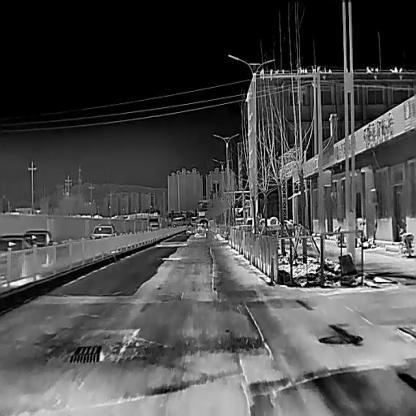car: (0, 236, 37, 278), (23, 230, 52, 266), (89, 223, 116, 244), (148, 217, 159, 232), (194, 224, 205, 237), (186, 223, 195, 233)
